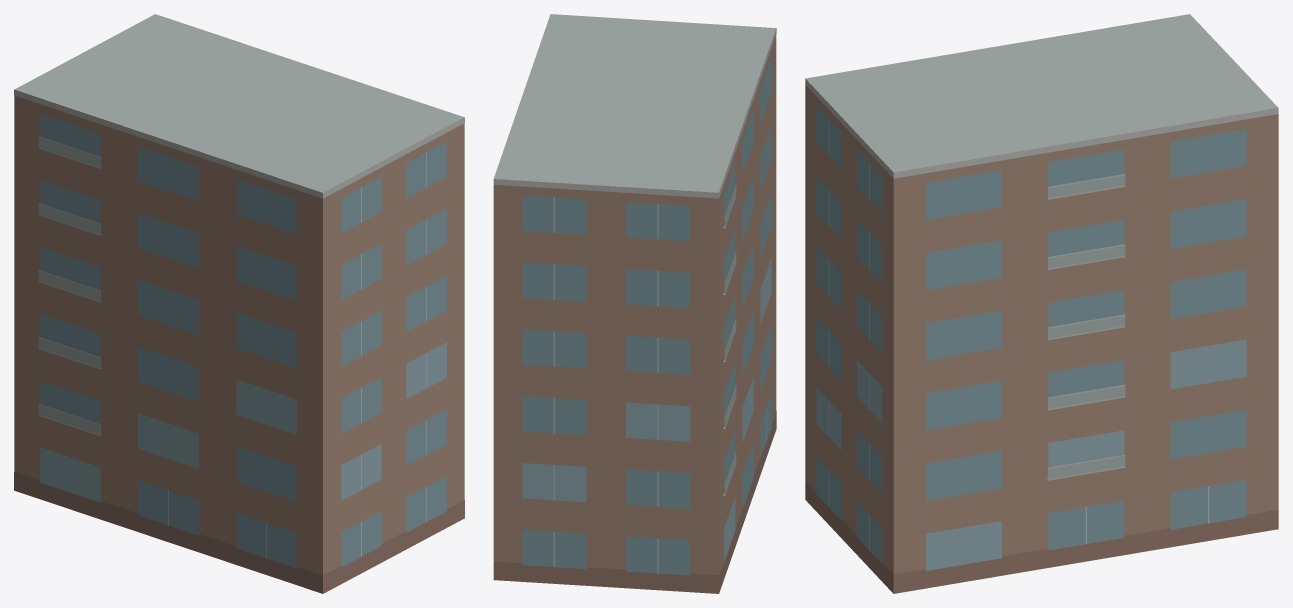
Rendered from survey-upis-32993941.glb.
3 views of the same model, side by side, from view 1: azimuth 30°, elevation 25°; view 2: azimuth 150°, elevation 25°; view 3: azimuth 270°, elevation 25° (orthographic). The views are drawn at different scales.
Visible parts, largest first — view 1: survey-upis-32993941.tmp; view 2: survey-upis-32993941.tmp; view 3: survey-upis-32993941.tmp.
Part boxes in pixels (left/top/right/bottom): survey-upis-32993941.tmp: left=14, top=14, right=464, bottom=593; survey-upis-32993941.tmp: left=493, top=14, right=776, bottom=593; survey-upis-32993941.tmp: left=805, top=14, right=1278, bottom=593.
Bounding box in the file's own units: 13.74 × 17 × 17.32.
